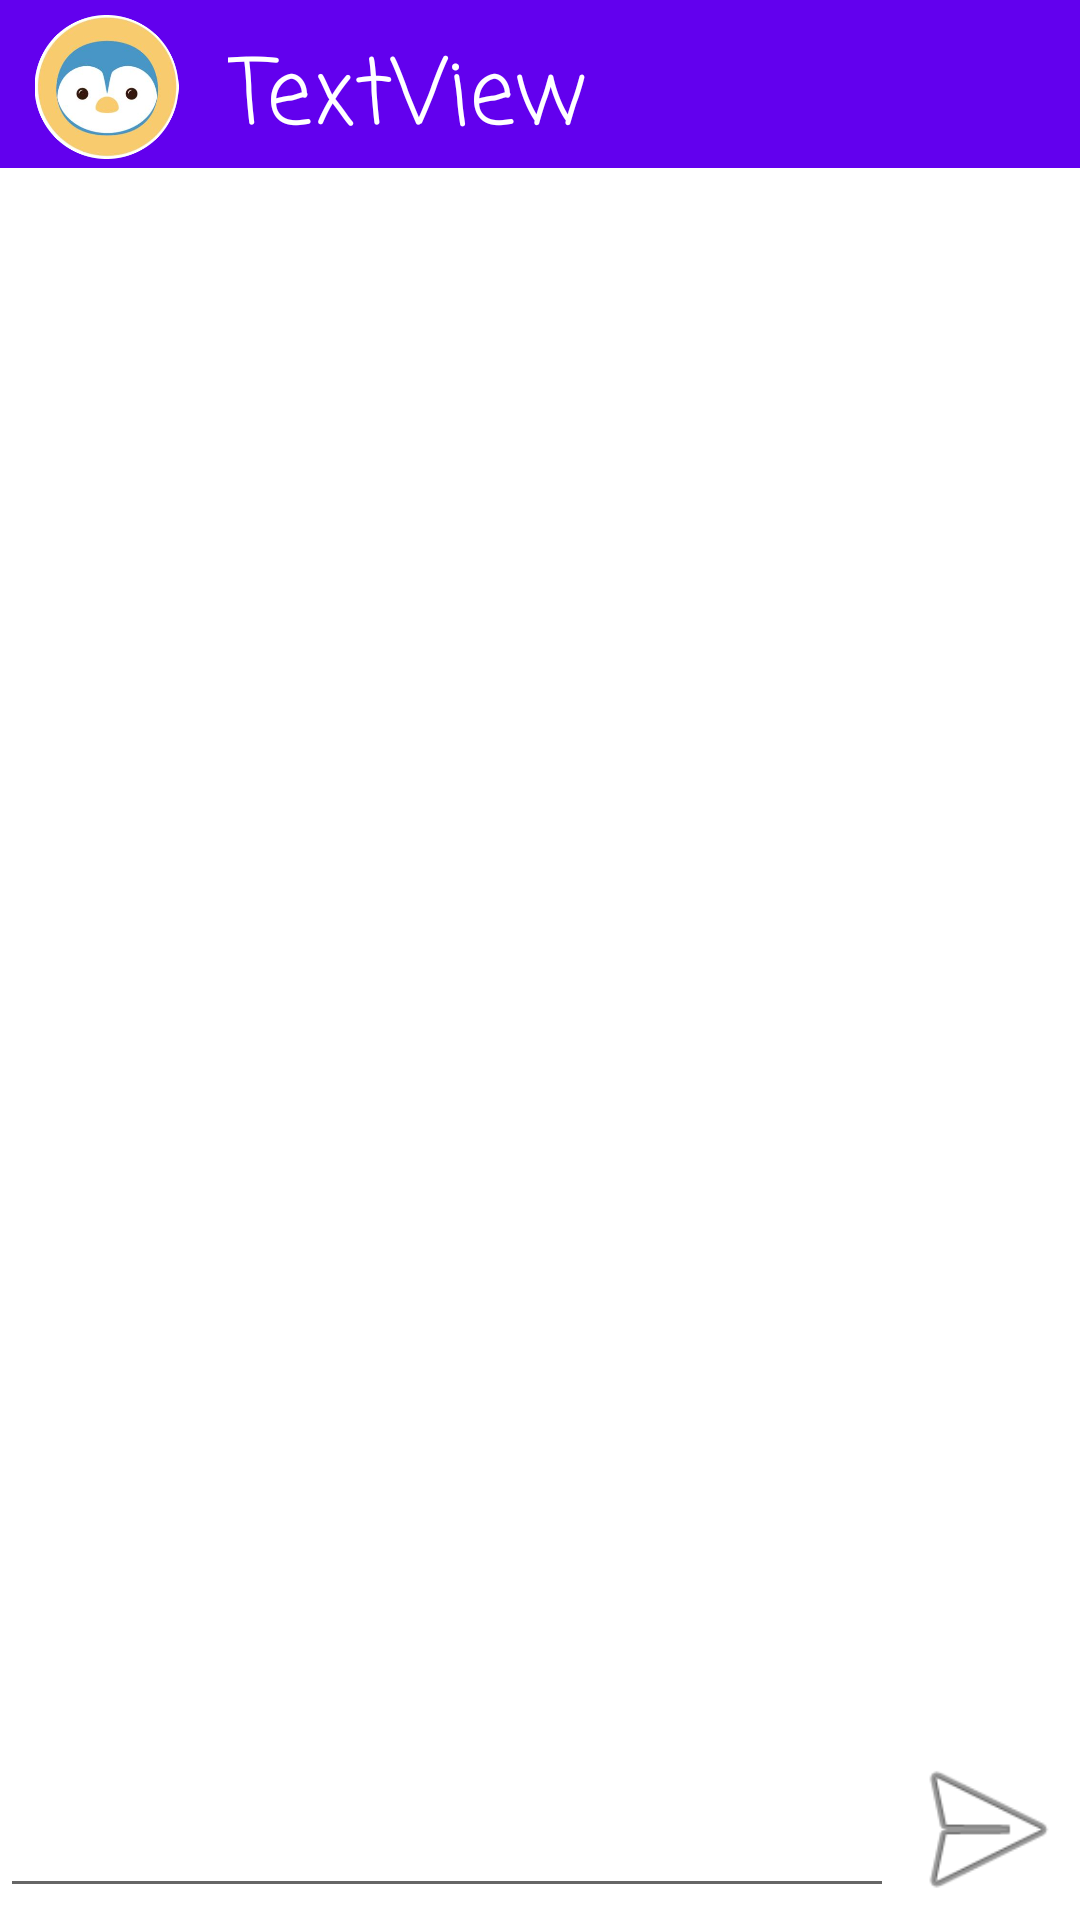

Where to tap for icons on this 1080 x 1920 app screen, as (x,y):
send: (989,1829)
